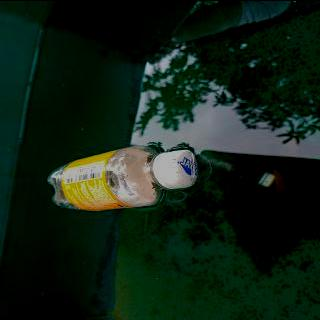bottle: (45, 143, 198, 211)
